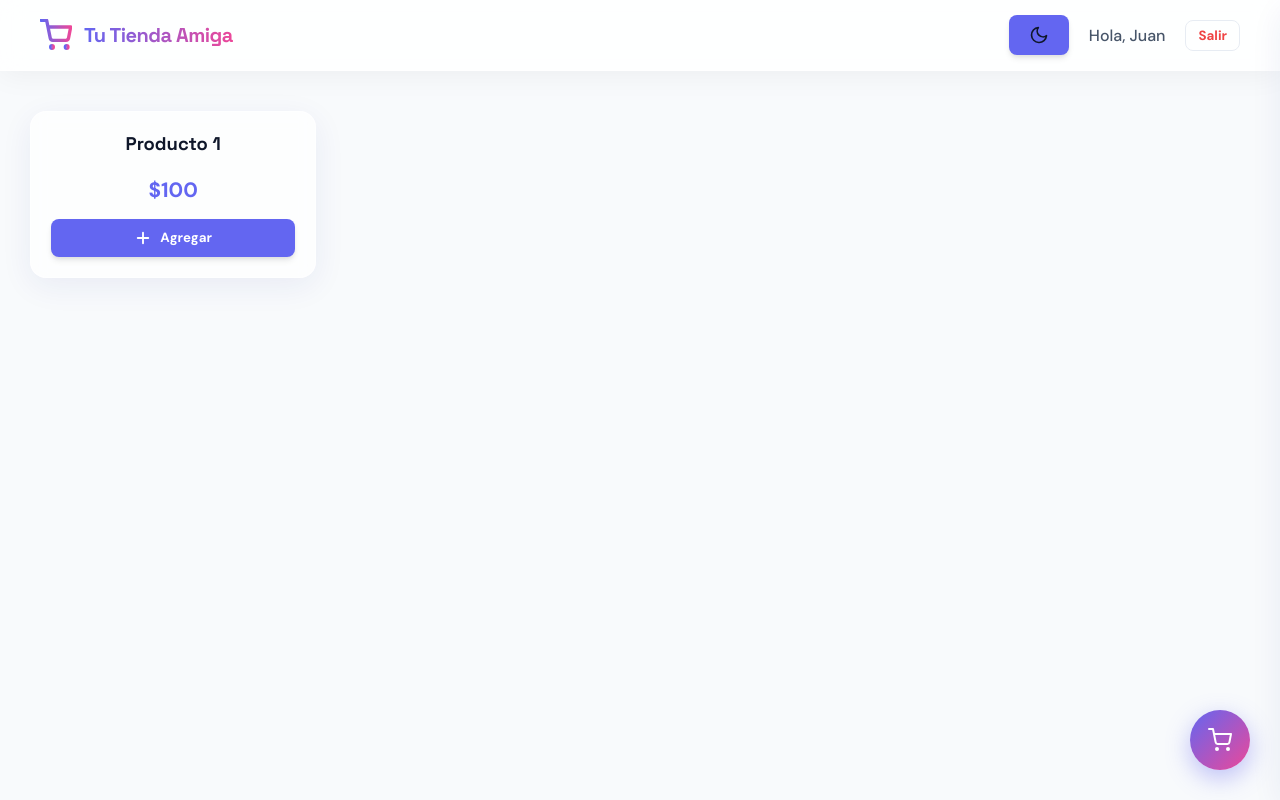
App Component - Gestión del Carrito › Procesamiento de Compra › ✓ HAPPY PATH: procesar compra exitosa
Click the button "Agregar" at (173, 238), box [51,219,295,257]
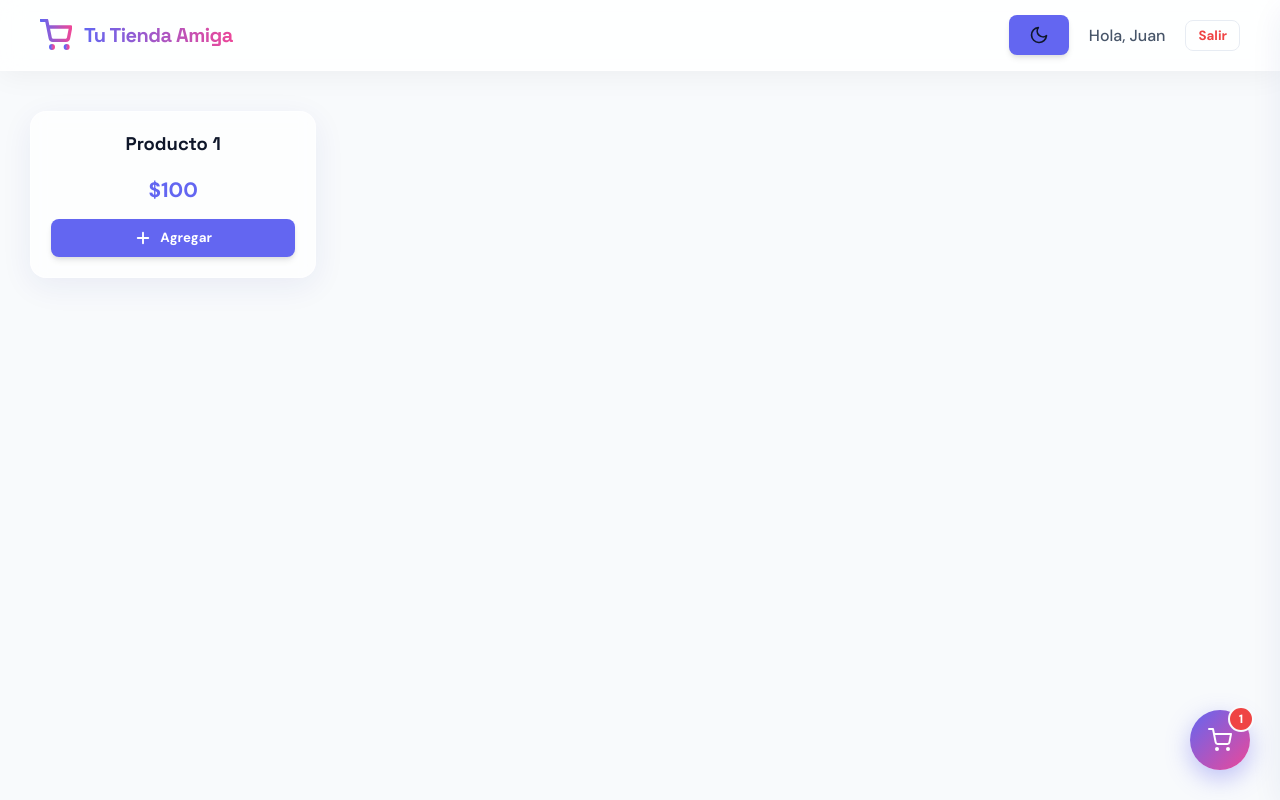
Click the button with class "cart-fab" at (1220, 740), box [1190,710,1250,770]
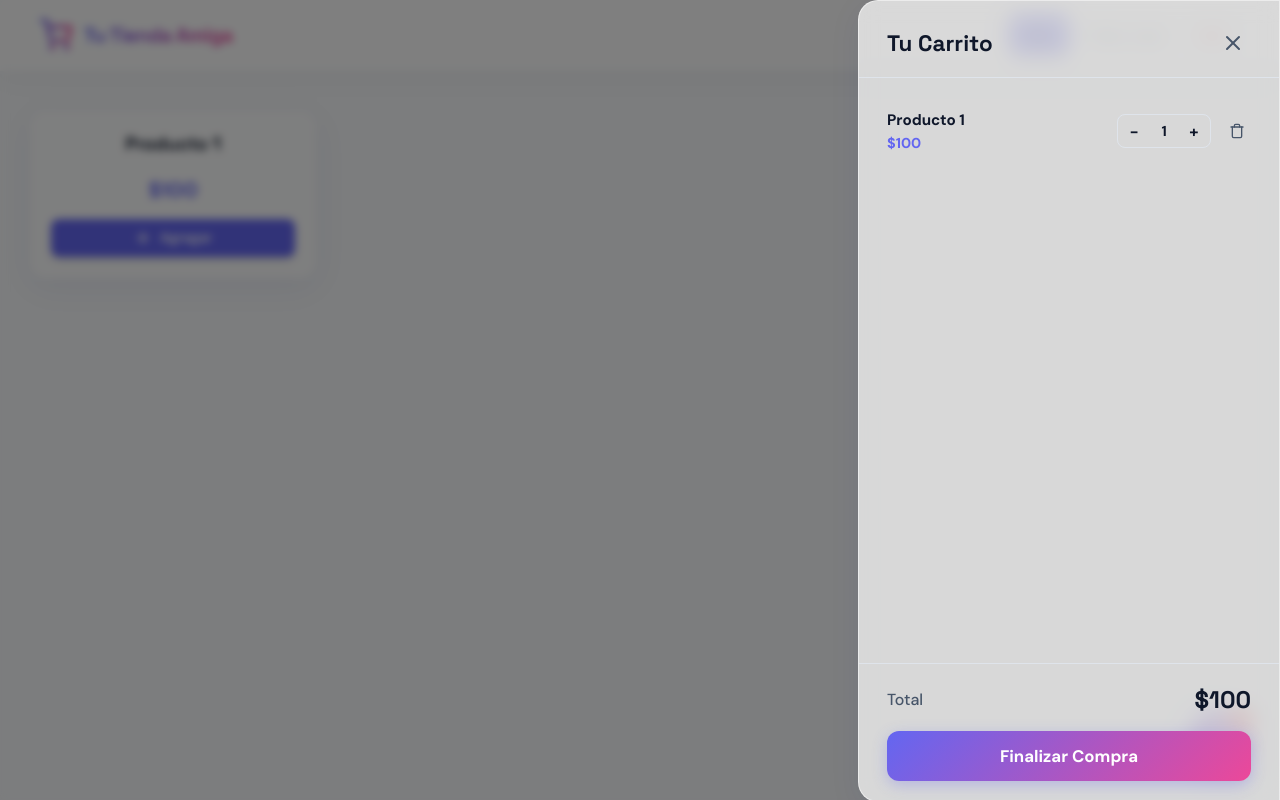
Click the button "Finalizar Compra" at (1069, 756), box [887,731,1251,781]
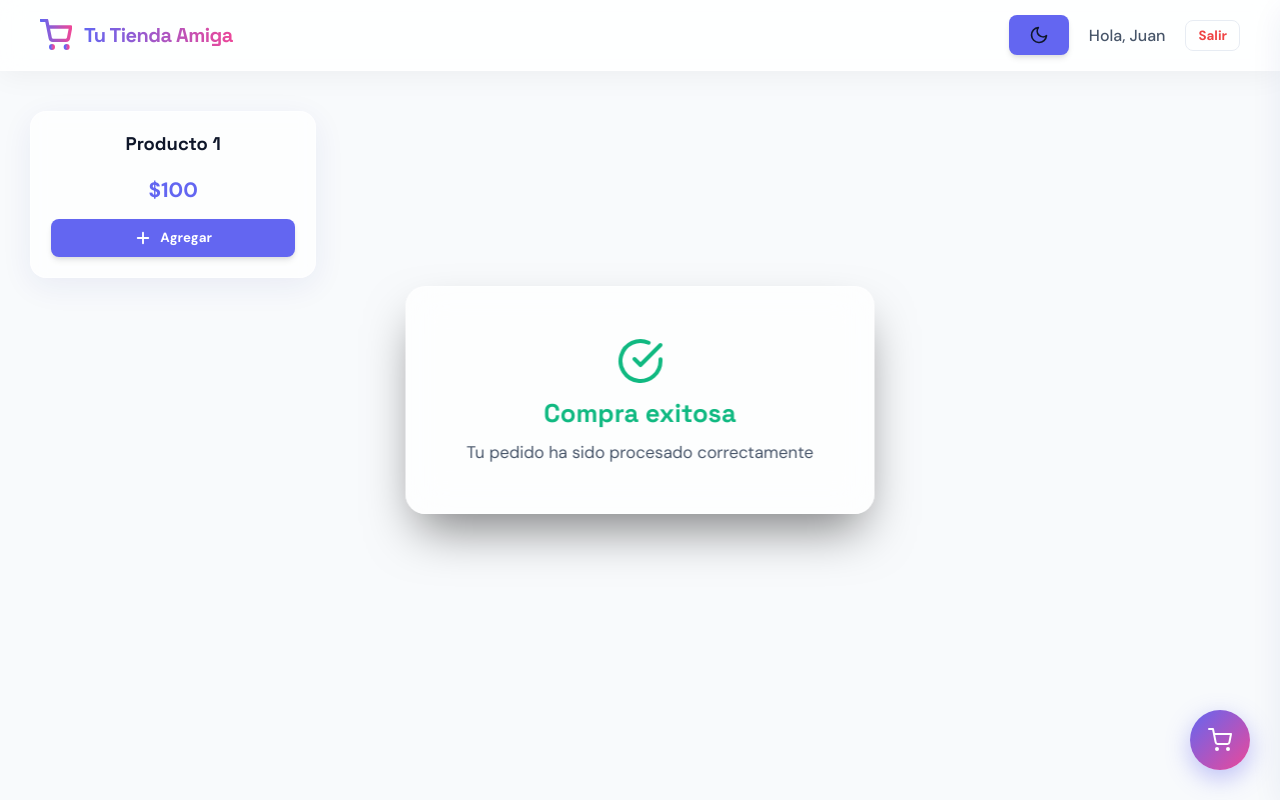
Expected: the heading "Compra exitosa" is shown, [544,397,736,429]
